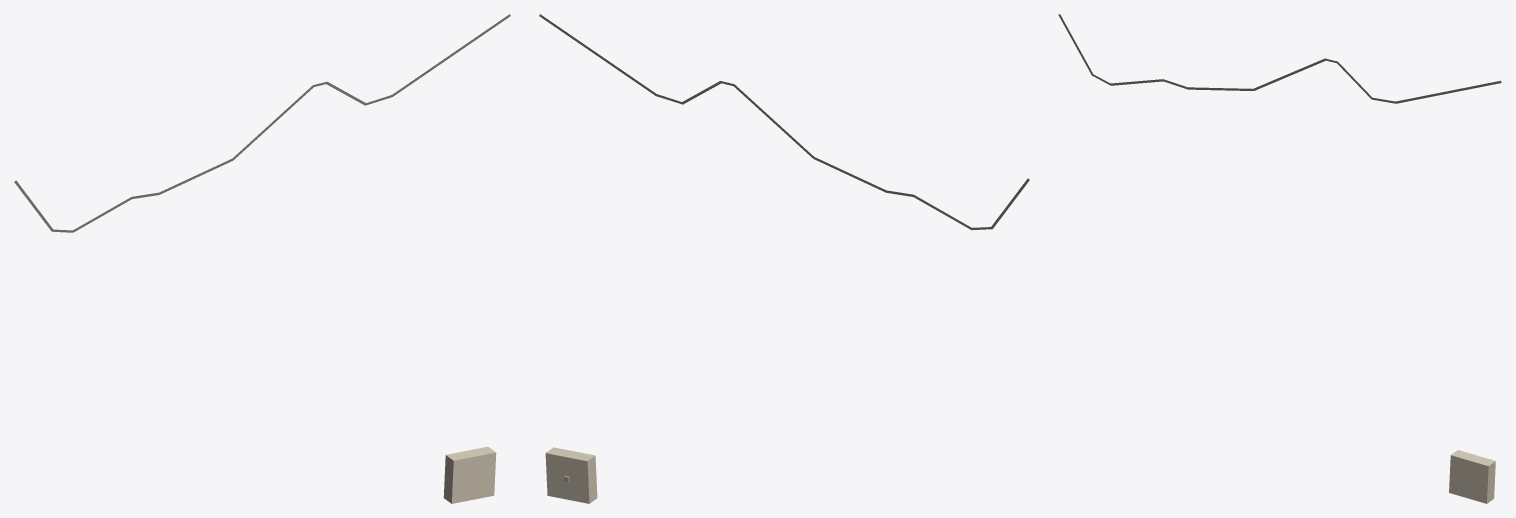
File: historic-palestine-09_25_3509_3198.glb
3 renders of one model, left to right at view 1: azimuth 30°, elevation 25°; view 2: azimuth 150°, elevation 25°; view 3: azimuth 330°, elevation 25°, orthographic. The views are drawn at different scales.
Parts seen in each view (by area): view 1: Building_, Road; view 2: Building_, Road; view 3: Building_, Road.
Part boxes in pixels (x1,y1,x2,y2): Building_: (443, 446, 496, 503); Road: (14, 14, 510, 232); Building_: (545, 447, 597, 503); Road: (539, 14, 1029, 230); Building_: (1449, 450, 1495, 503); Road: (1058, 14, 1501, 103).
Bounding box in the file's own units: 267 × 245 × 8.7.
